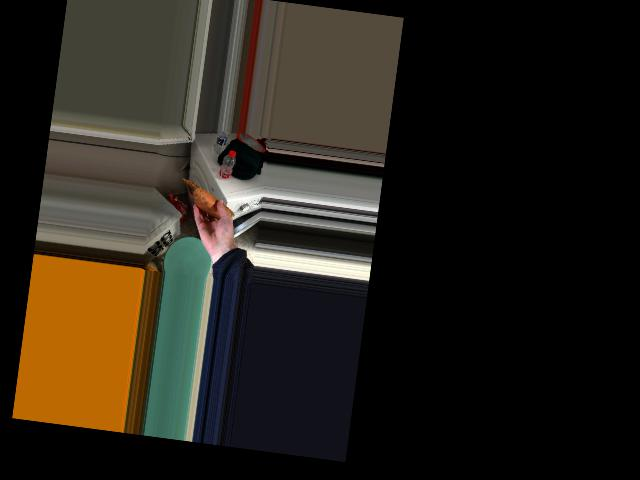sweet_potato: (191, 188, 228, 219)
